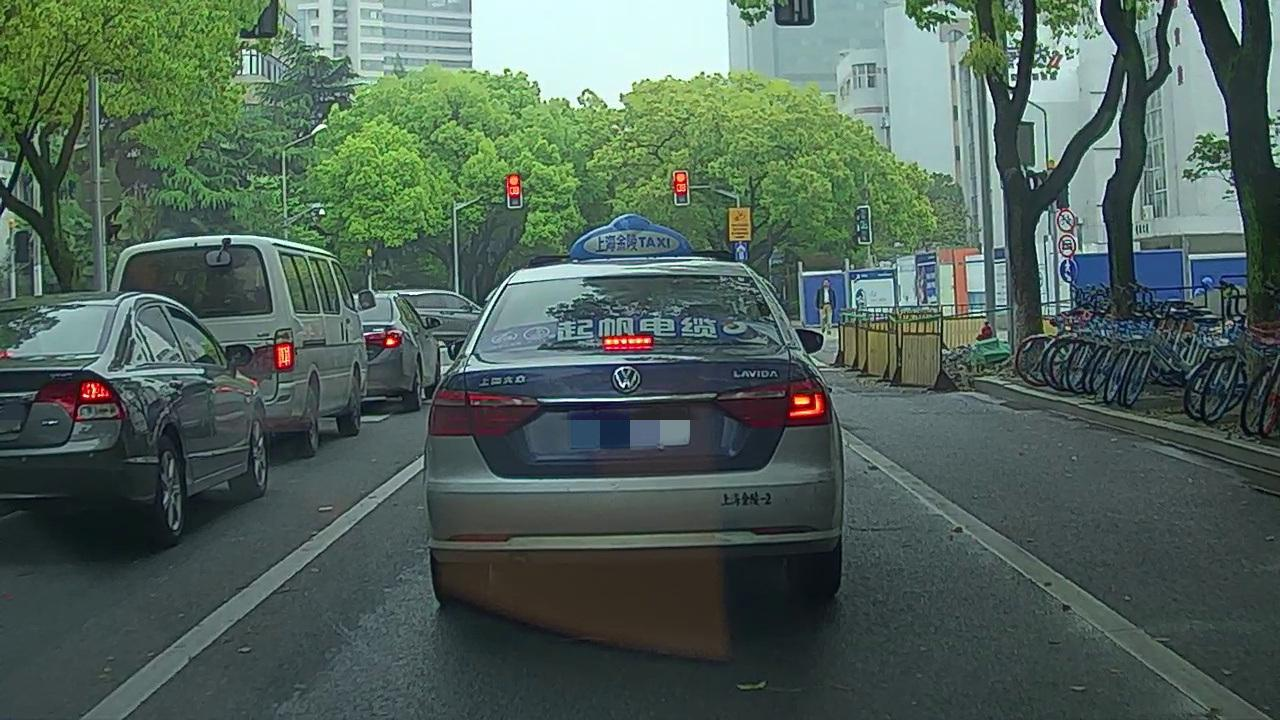traffic_light: (507, 174, 521, 207), (675, 171, 688, 204)
